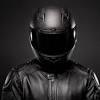helmet: (24, 3, 80, 65)
